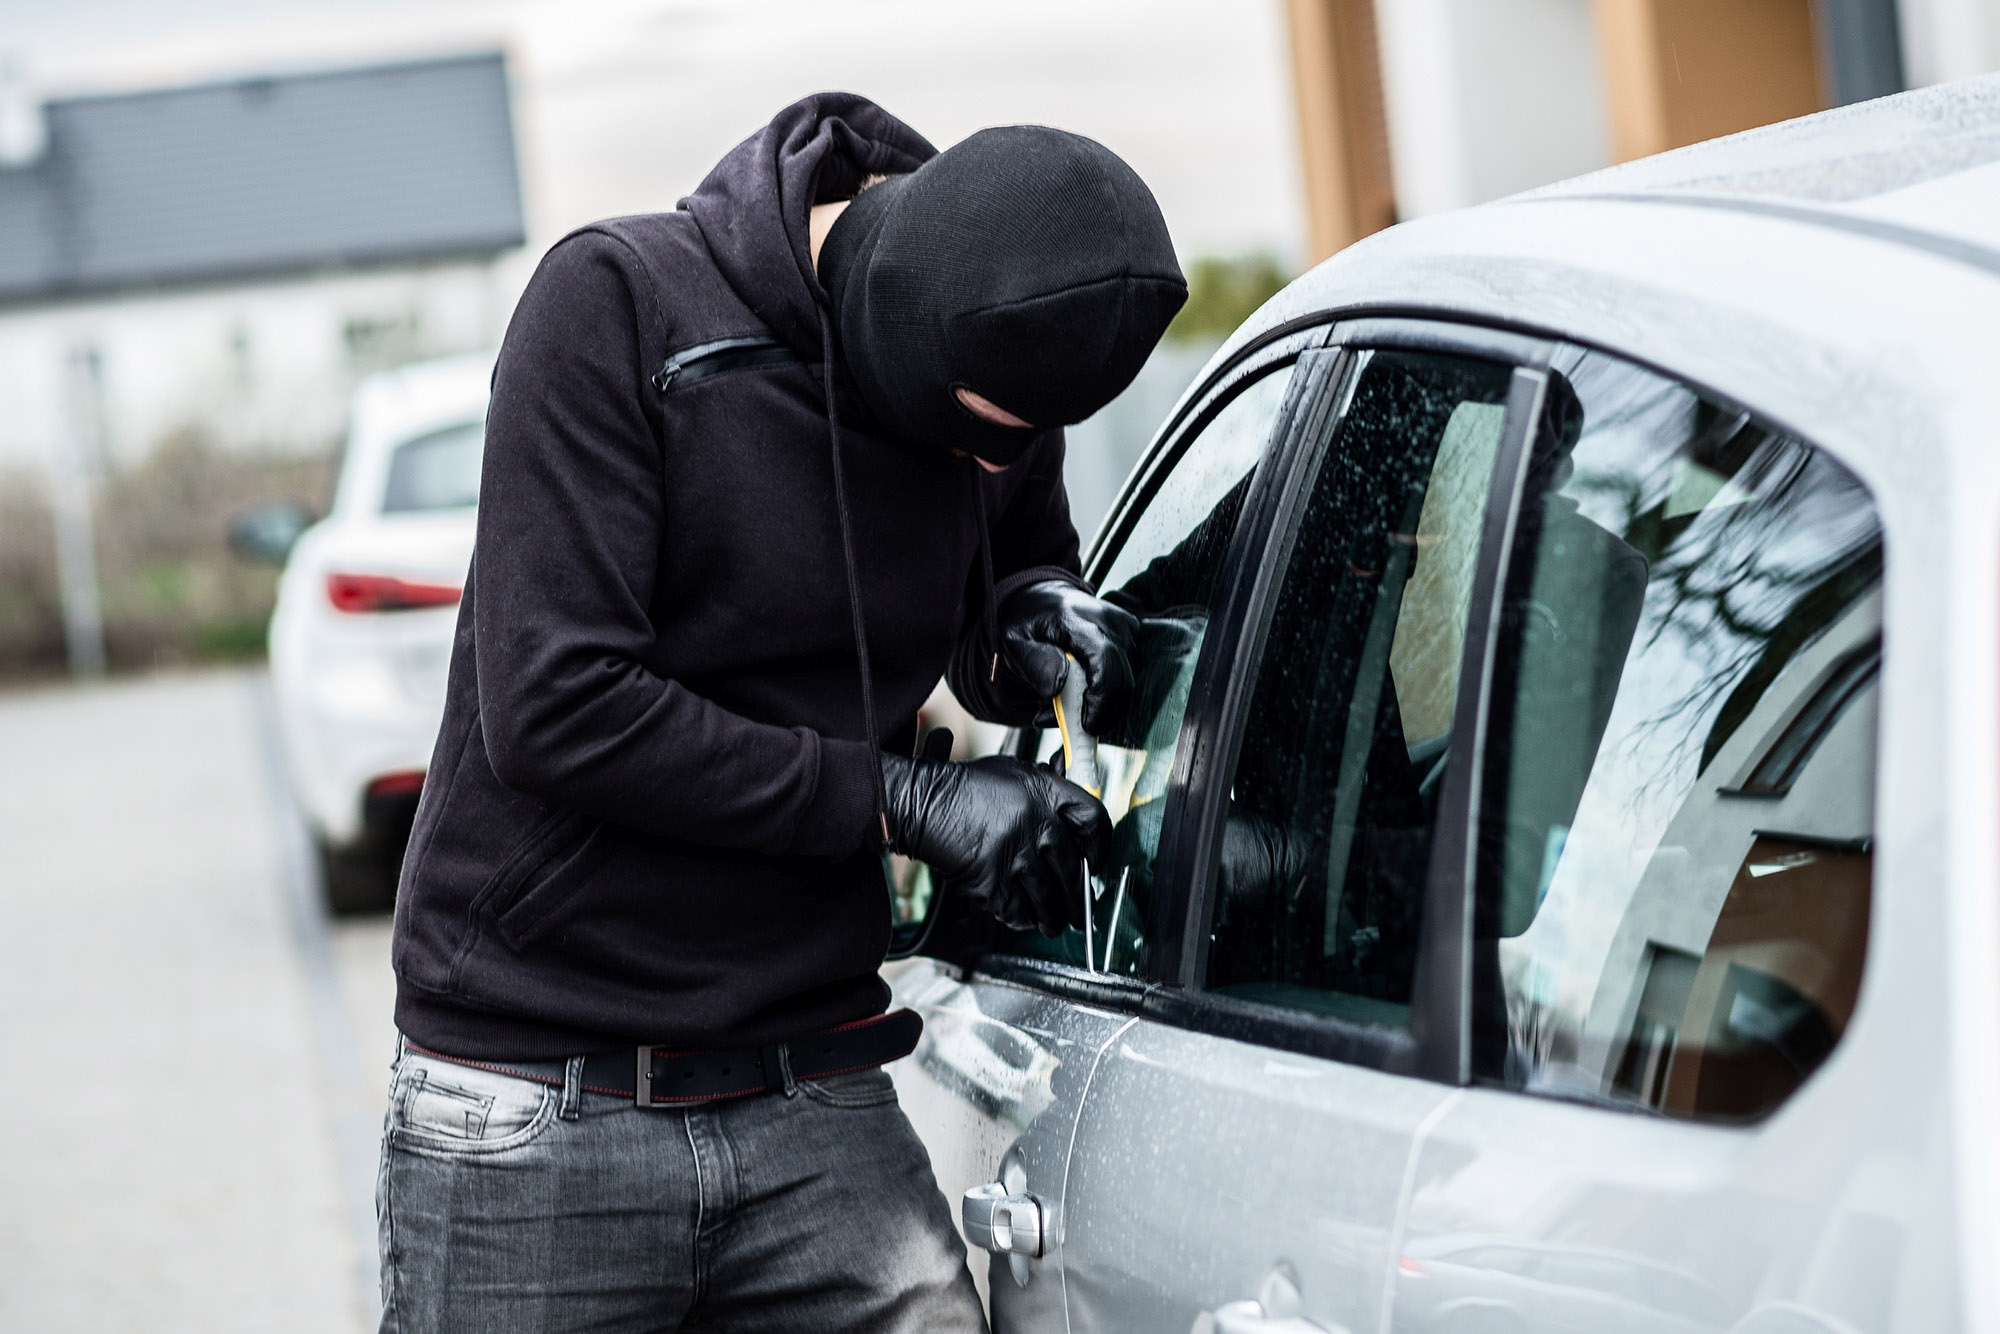thief: (359, 57, 1234, 1169), (762, 83, 1229, 1048)
